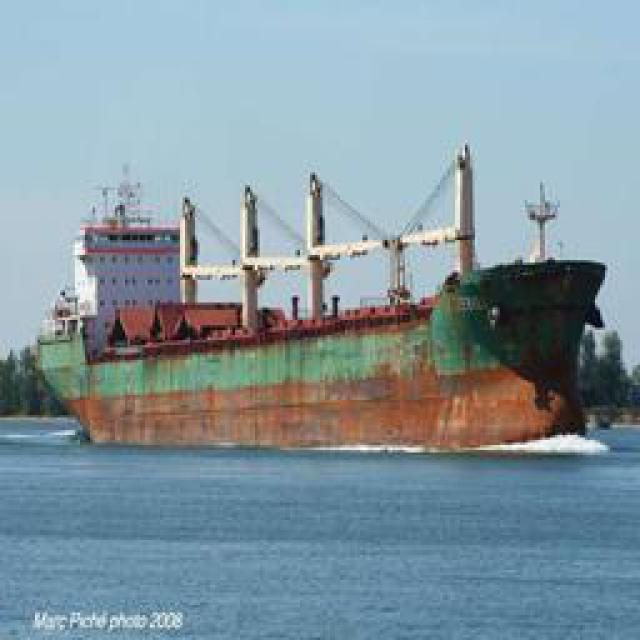Ship: (33, 142, 611, 450)
